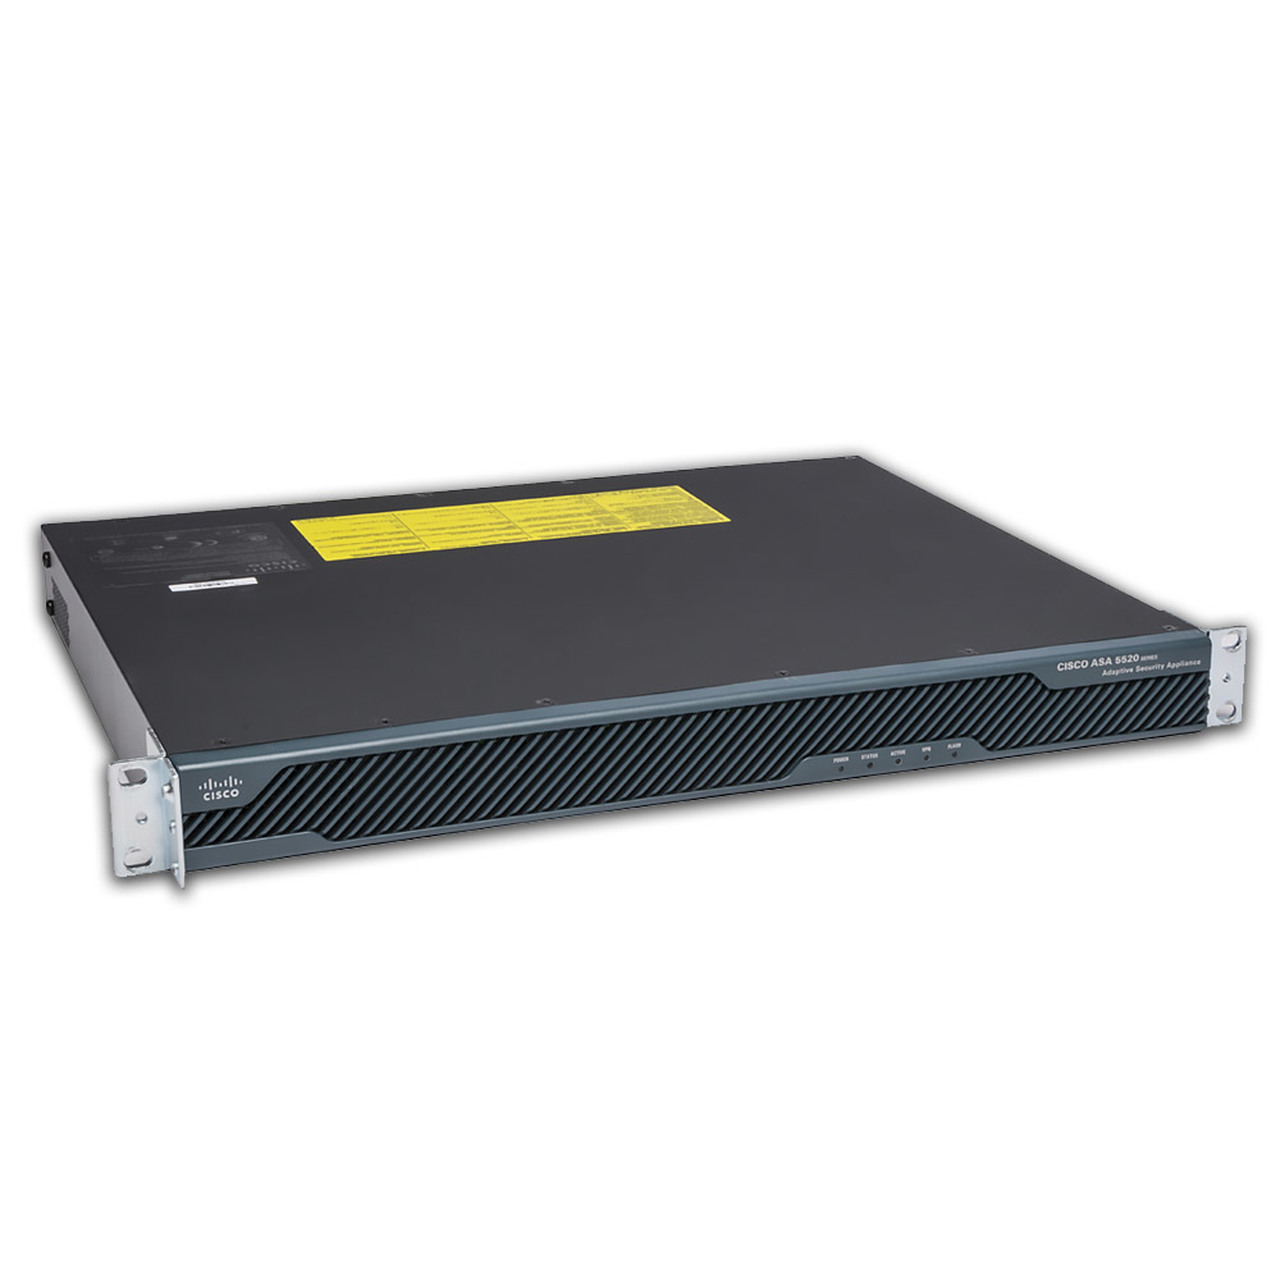Firewall: (49, 622, 1266, 863)
